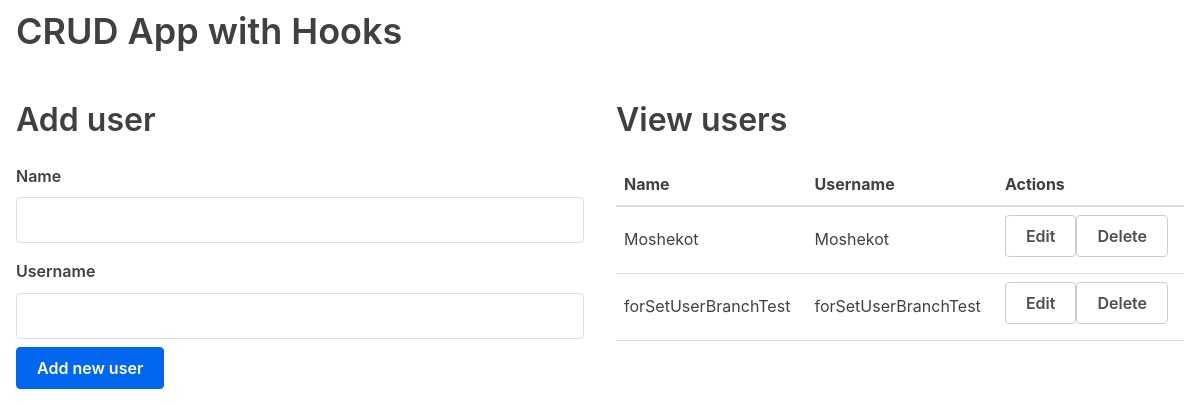
Test: Delete a user › Edit a user in a list
click its delete button
Step 1. Click the 2nd button with test id "Moshekot" → (1122, 236), box [1076,215,1168,257]
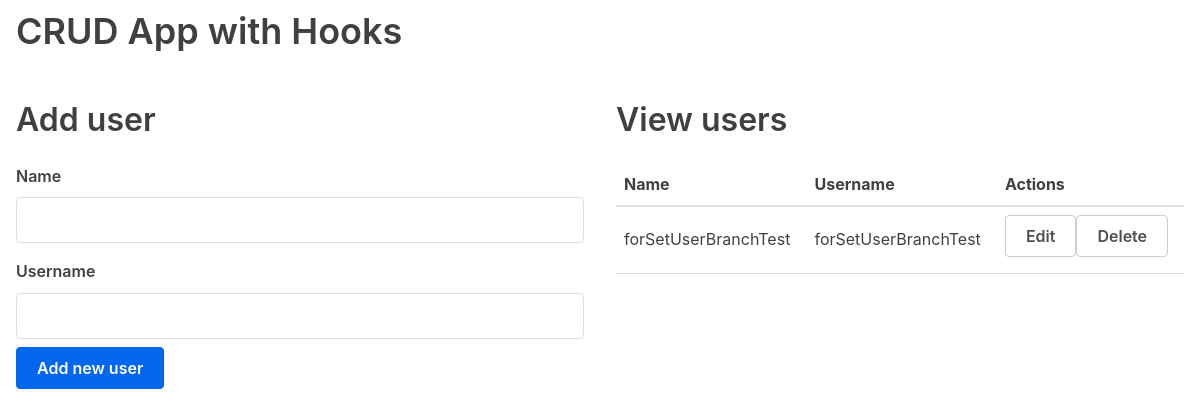
Result: the text "Moshekot" is gone
